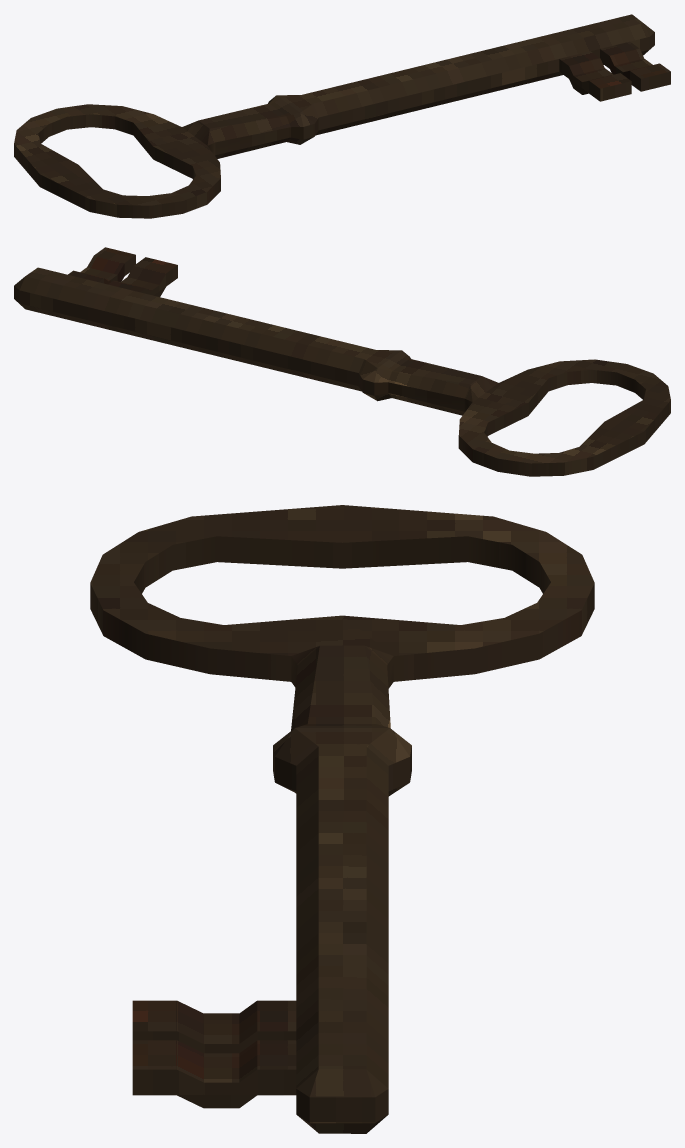
The model's file is key_mp_3_1.glb.
3 views of the same model, one above another, from view 1: azimuth 30°, elevation 25°; view 2: azimuth 150°, elevation 25°; view 3: azimuth 270°, elevation 25° (orthographic). The views are drawn at different scales.
Visible parts, largest first — view 1: key_mp_3_1; view 2: key_mp_3_1; view 3: key_mp_3_1.
Boxes of the visible parts, box(x1,y1,x2,y2) form: key_mp_3_1: box(14, 14, 670, 218); key_mp_3_1: box(14, 247, 670, 476); key_mp_3_1: box(90, 505, 594, 1133).
Bounding box in the file's own units: 0.1428 × 0.00726 × 0.0514.
1 material, 1 textured.
